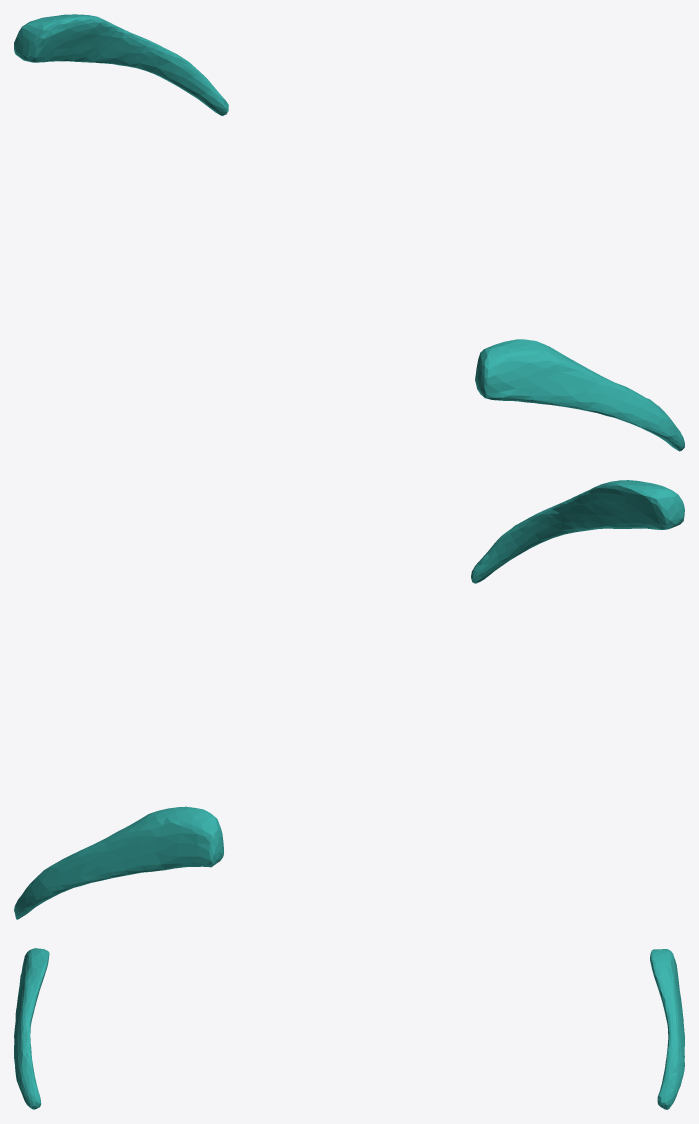
3 renders of one model, top to bottom at view 1: azimuth 30°, elevation 25°; view 2: azimuth 150°, elevation 25°; view 3: azimuth 270°, elevation 25°, orthographic. The views are drawn at different scales.
Visible parts, largest first — view 1: 988.obj; view 2: 988.obj; view 3: 988.obj.
Part boxes in pixels (x1,y1,x2,y2): 988.obj: (14, 14, 684, 451); 988.obj: (14, 480, 684, 919); 988.obj: (14, 948, 684, 1109).
Size of the model in its own units: 2317 by 1544 by 9442.
